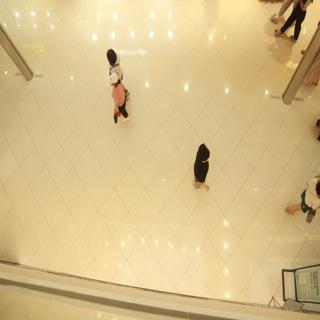person: (185, 134, 226, 199), (101, 66, 137, 125), (100, 39, 128, 75)
